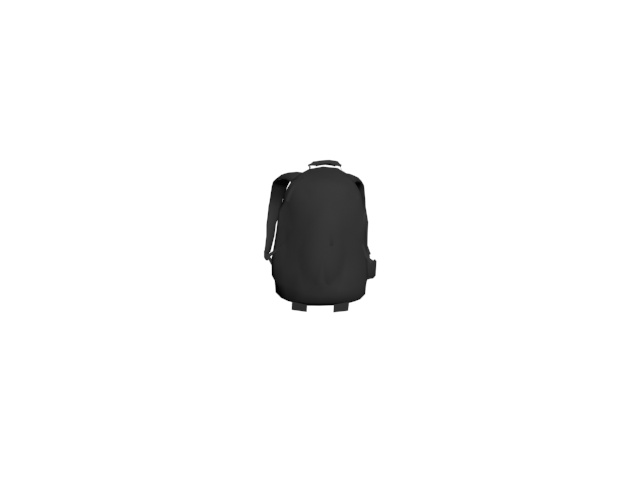back_pack: (257, 153, 384, 320)
